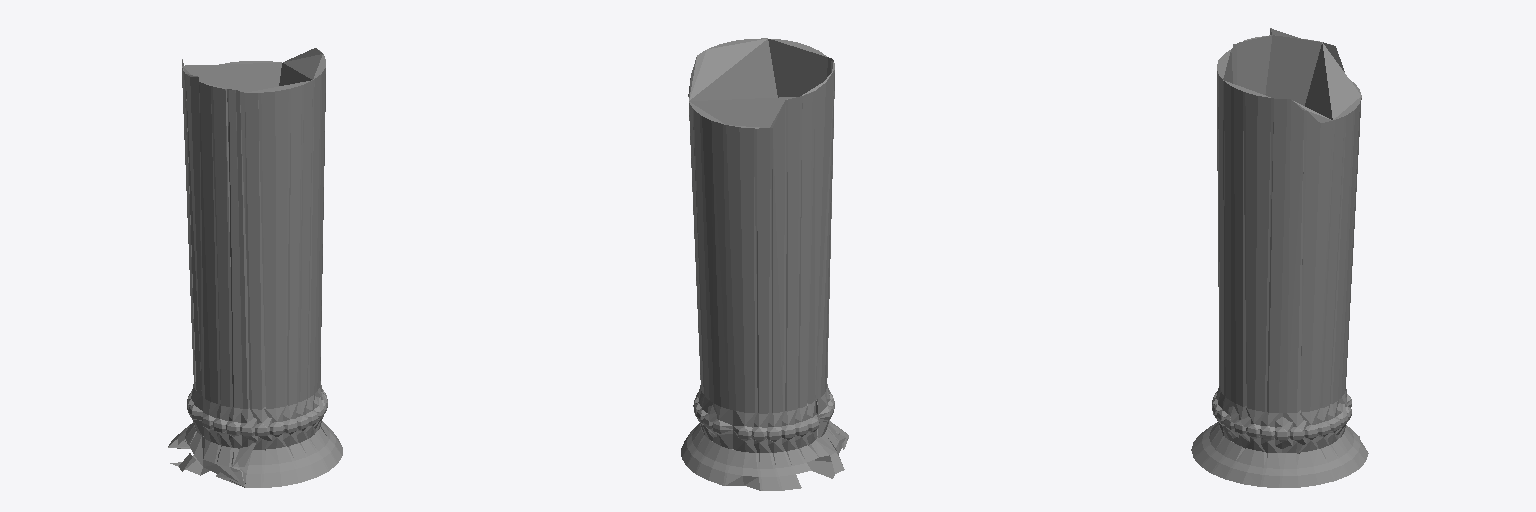
The model's file is GreekCollum2.obj.
3 renders of one model, left to right at view 1: azimuth 30°, elevation 25°; view 2: azimuth 150°, elevation 25°; view 3: azimuth 270°, elevation 25°, orthographic.
Parts seen in each view (by area): view 1: Capsule023_Capsule023; view 2: Capsule023_Capsule023; view 3: Capsule023_Capsule023.
Part boxes in pixels (x1,y1,x2,y2): Capsule023_Capsule023: (168, 48, 342, 487); Capsule023_Capsule023: (681, 38, 848, 490); Capsule023_Capsule023: (1191, 28, 1368, 487).
Bounding box in the file's own units: 52.71 × 132 × 53.55.